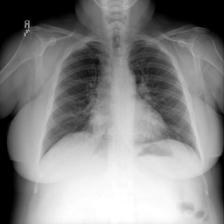normal: (39, 34, 204, 167)
